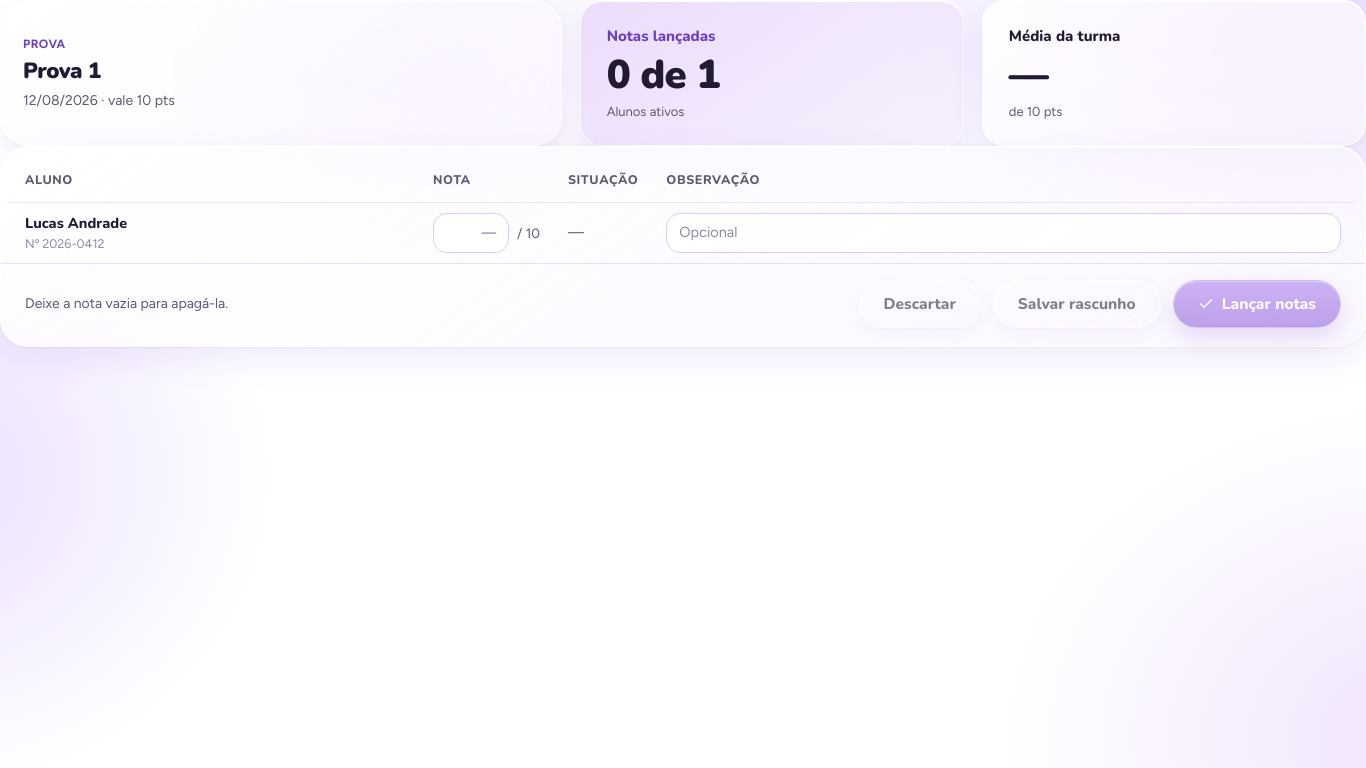
DiarioNotas › salvar rascunho grava sem publicar e avisa que o aluno ainda não vê
Type "8,5" into the field named "Nota de Lucas Andrade" at (471, 233), box [433,213,509,253]
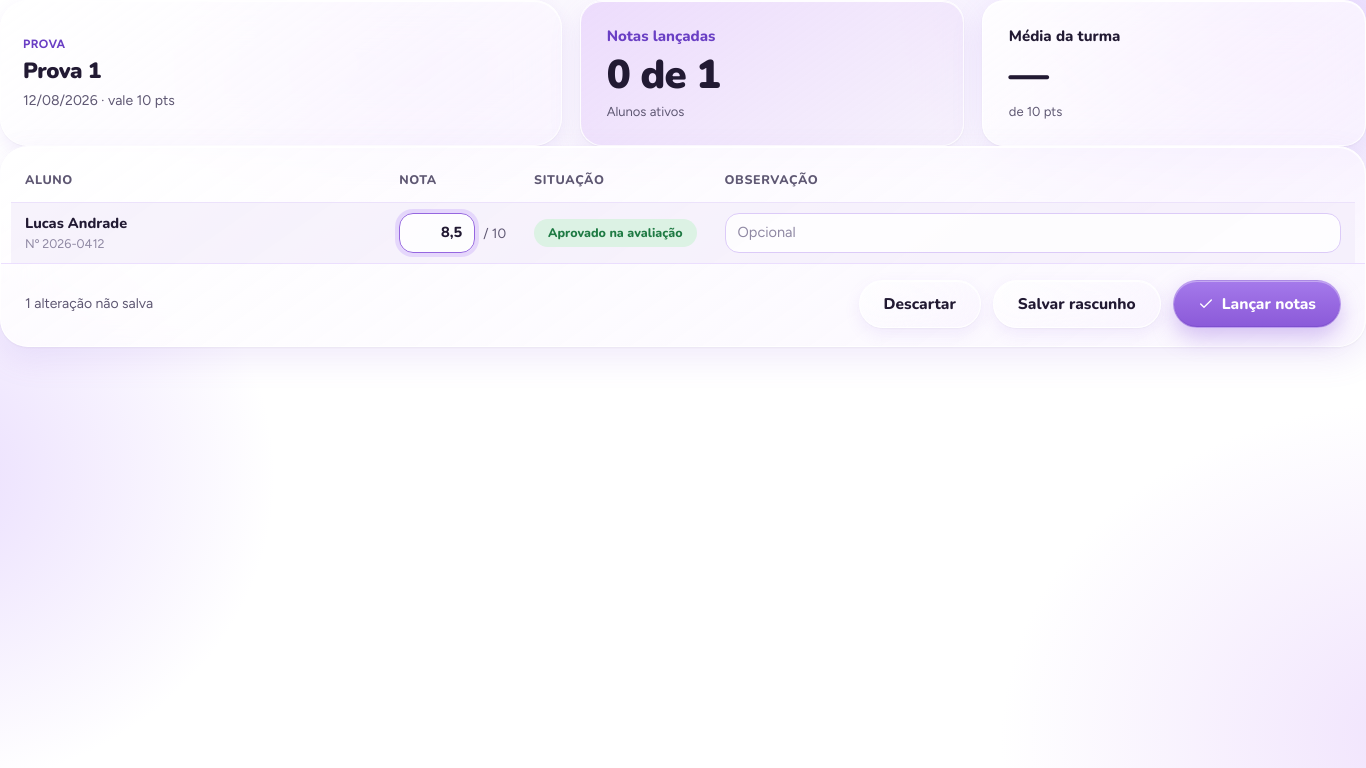
Click the button "Salvar rascunho" at (1077, 304), box [993,280,1161,328]
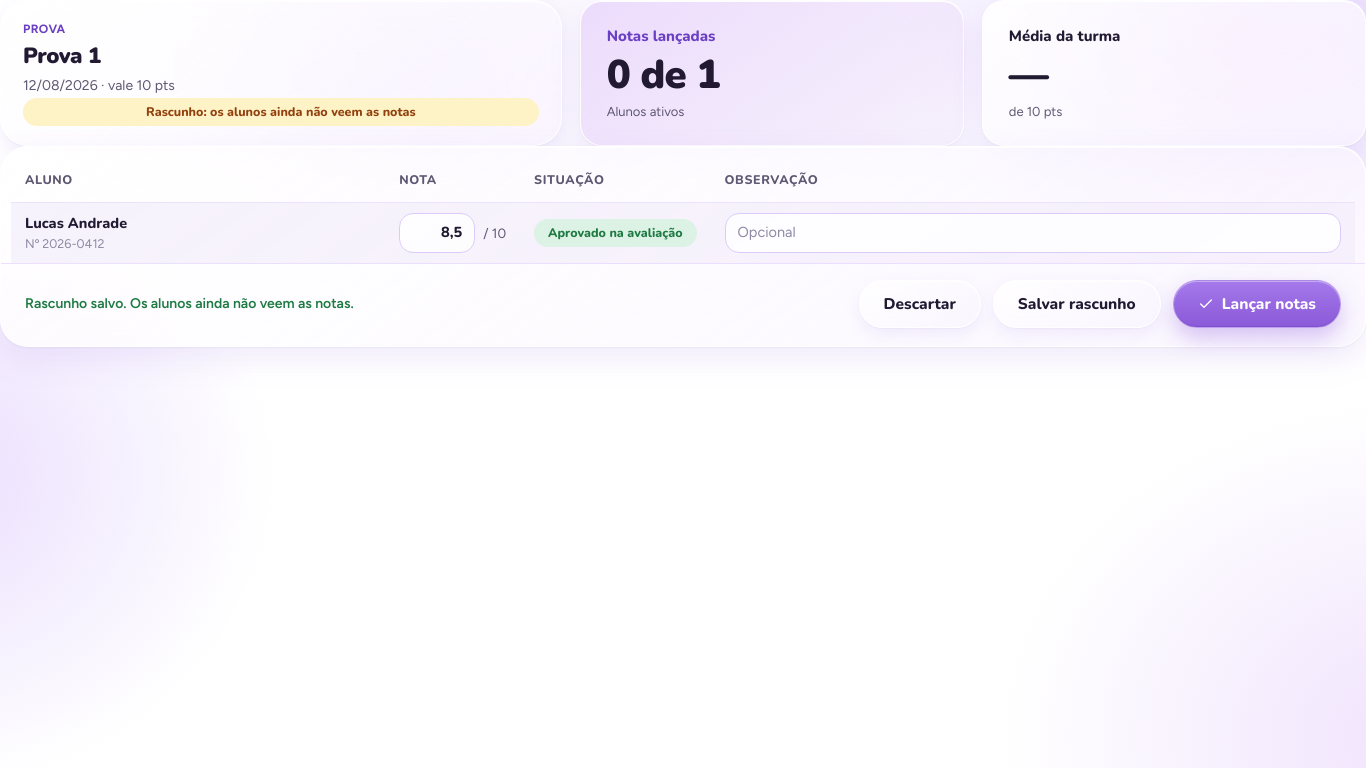
Now the text "Rascunho salvo. Os alunos ainda não veem as notas." is shown, box [25,295,354,312]
Now the text "Rascunho: os alunos ainda não veem as notas" is shown, box [23,98,539,126]
